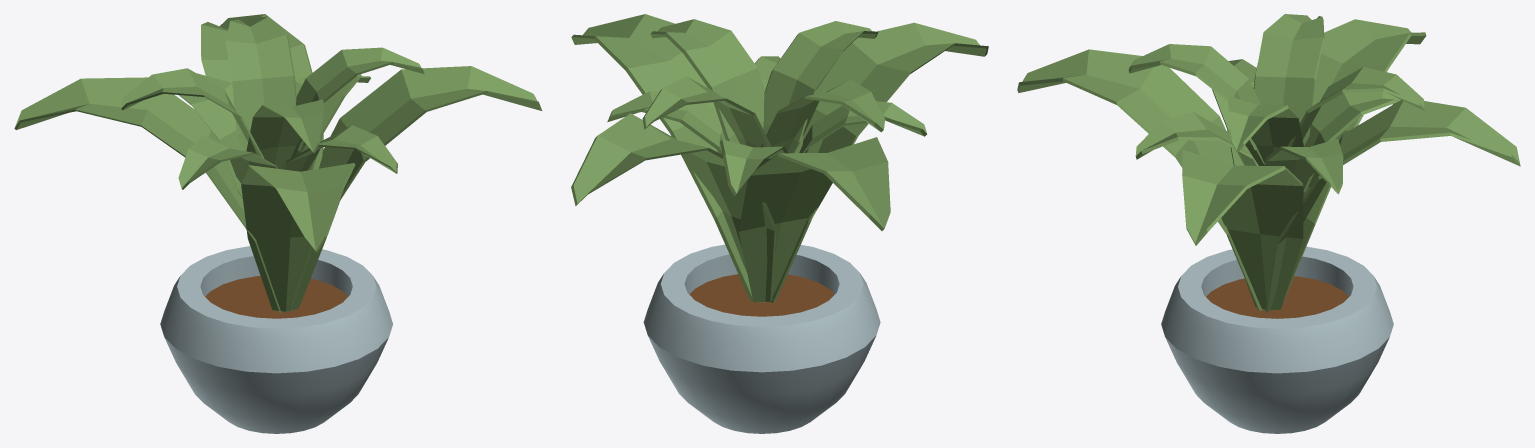
File: plant1.fbx
3 views of the same model, side by side, from view 1: azimuth 30°, elevation 25°; view 2: azimuth 150°, elevation 25°; view 3: azimuth 270°, elevation 25° (orthographic).
Visible parts, largest first — view 1: Plane.002; view 2: Plane.002; view 3: Plane.002.
Part boxes in pixels (<box>): Plane.002: <box>14,14,542,433</box>; Plane.002: <box>571,14,988,433</box>; Plane.002: <box>1017,14,1520,433</box>.
Bounding box in the file's own units: 656 × 519 × 688.
